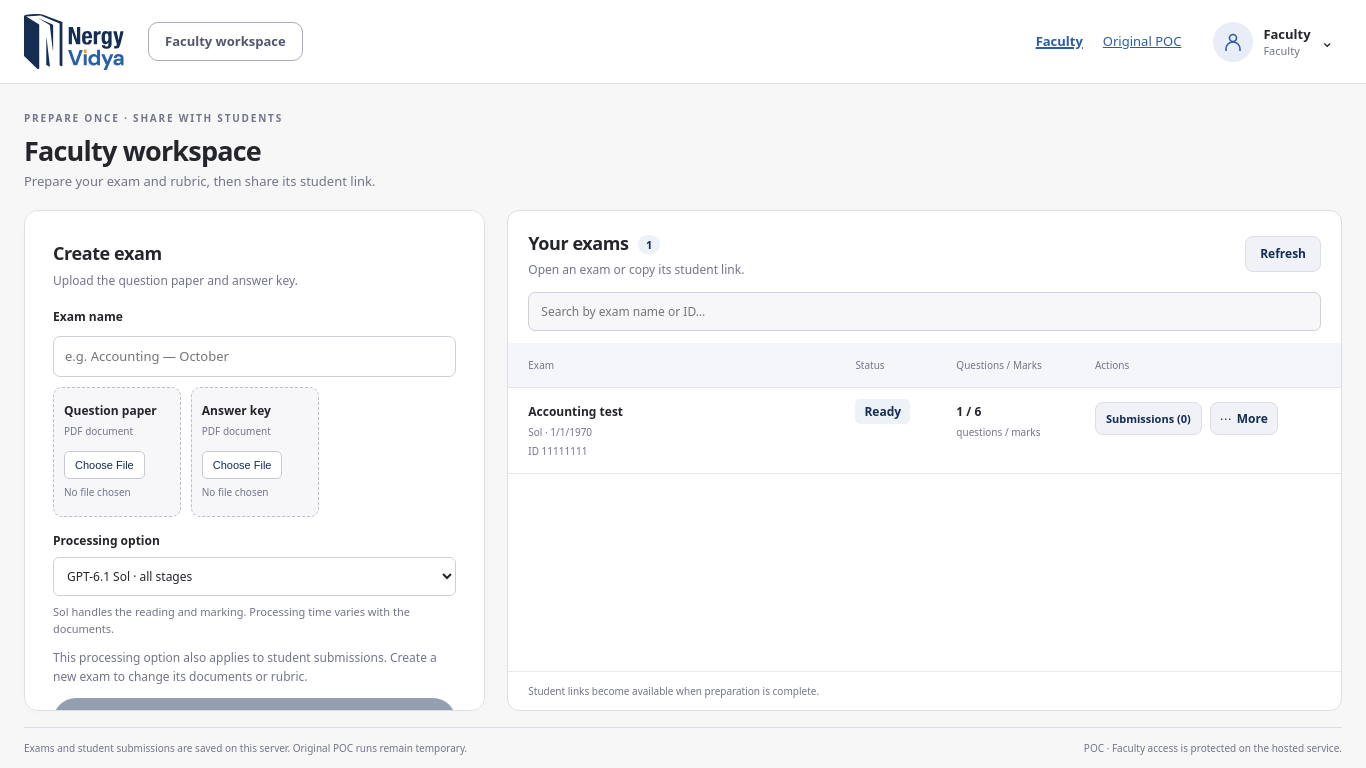
Test: Faculty page › edits the model from the details popup and displays the persisted selection
The width and height of the screenshot is (1366, 768).
Expected: the text "Ready" is shown, [855, 399, 910, 424]
Click the button with aria-label "More actions for Accounting test".
click(1244, 419)  # box [1210, 402, 1278, 435]
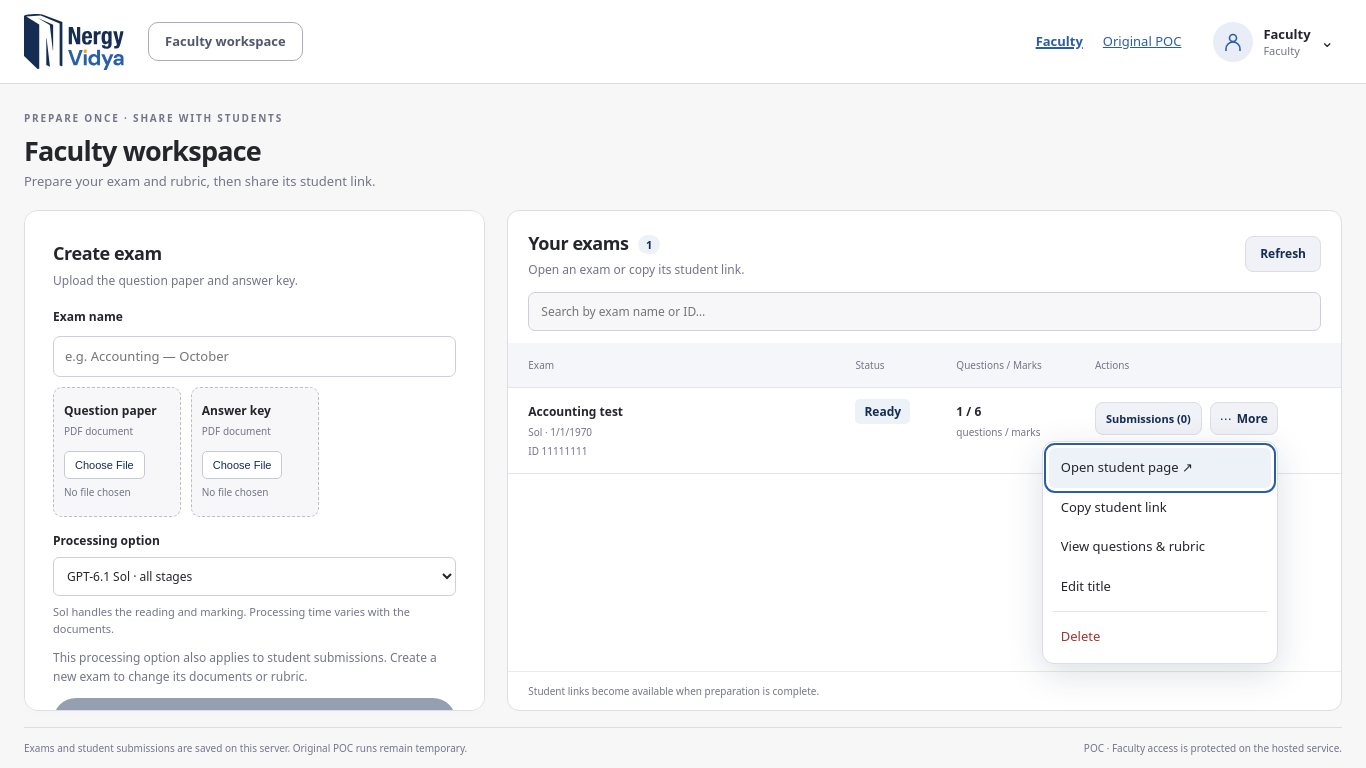
Click the menu item "View questions & rubric".
click(1160, 547)  # box [1049, 527, 1271, 567]
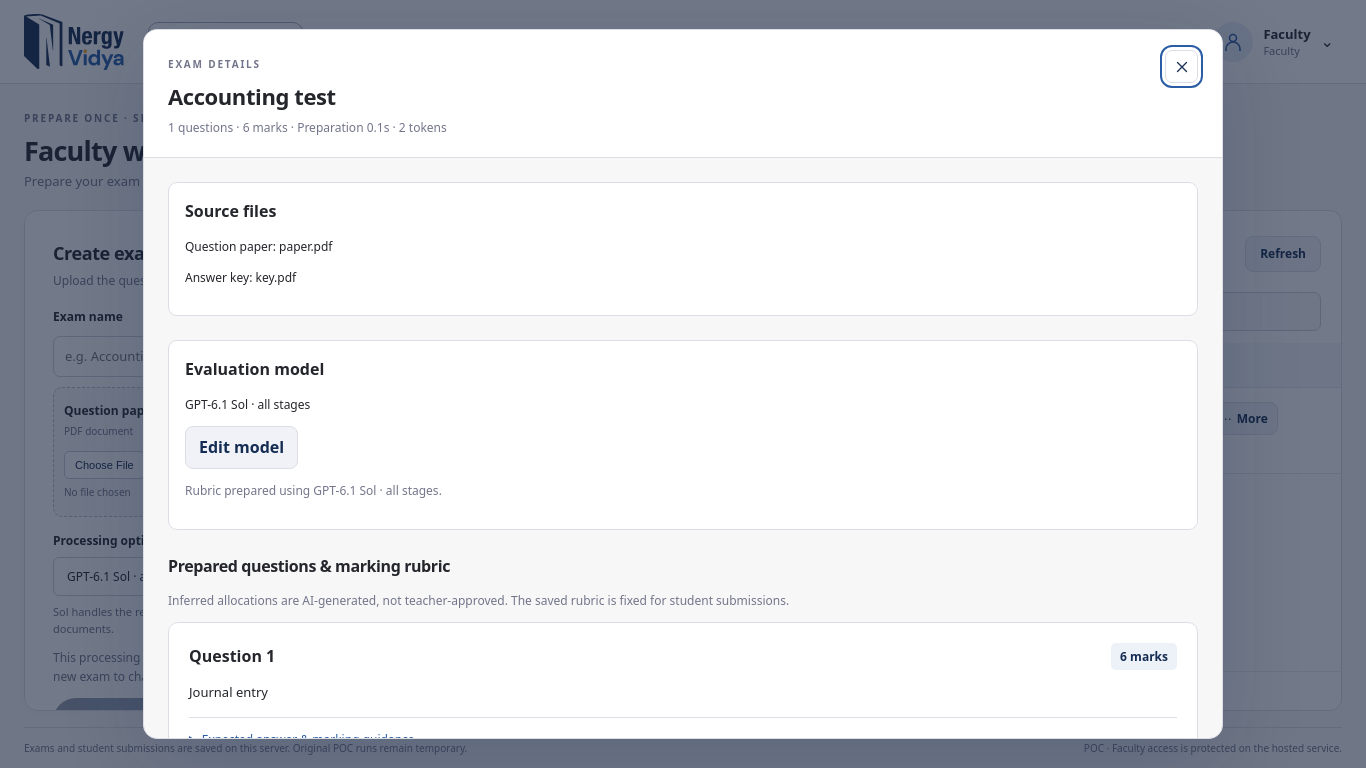
Now the heading "Evaluation model" is shown, box [185, 358, 324, 380]
Click the button "Edit model".
click(242, 448)  # box [185, 426, 298, 469]
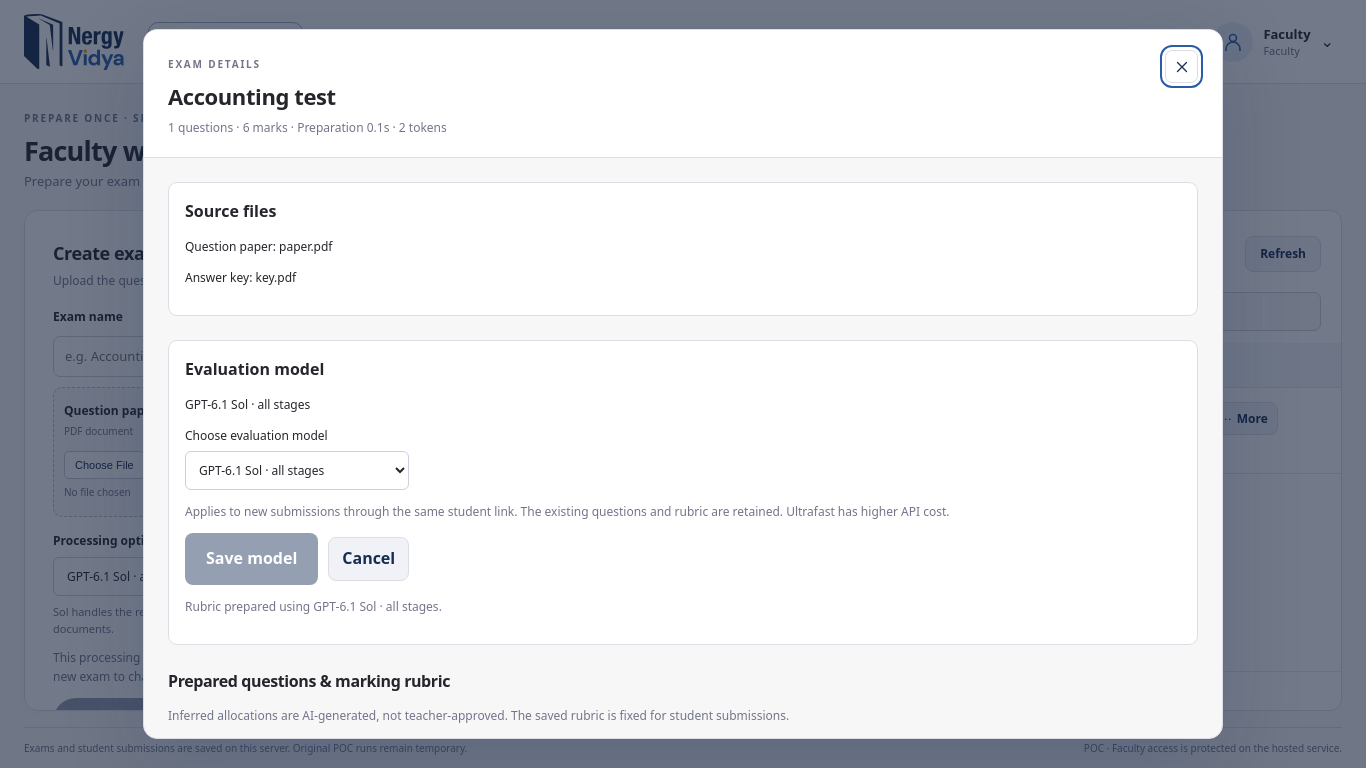
Select "GPT-6.1 Sol · all stages · Ultrafast" in the dropdown labelled "Choose evaluation model" at (297, 470), box [185, 451, 409, 490]
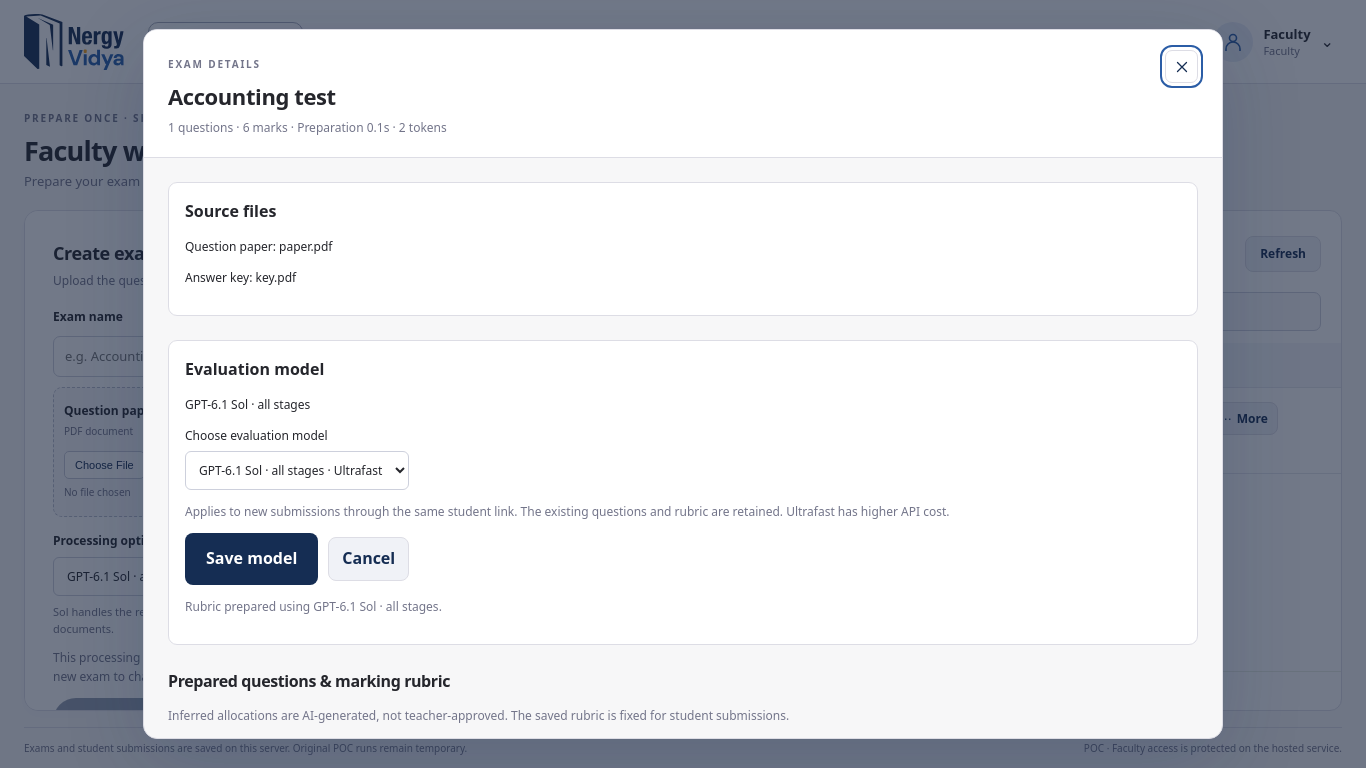
Click the button "Save model".
click(252, 559)  # box [185, 533, 318, 585]
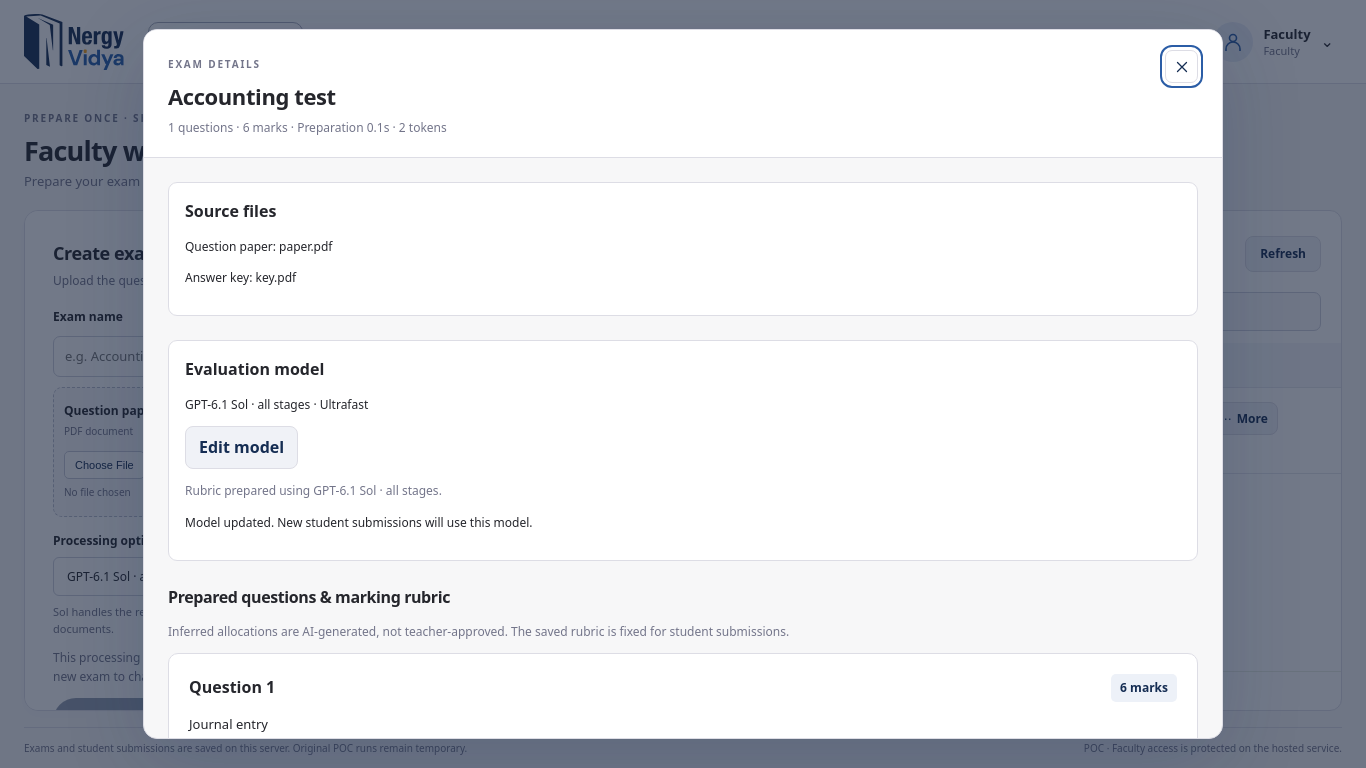
Now the text "Model updated. New student submissions will use this model." is shown, box [185, 514, 532, 530]
